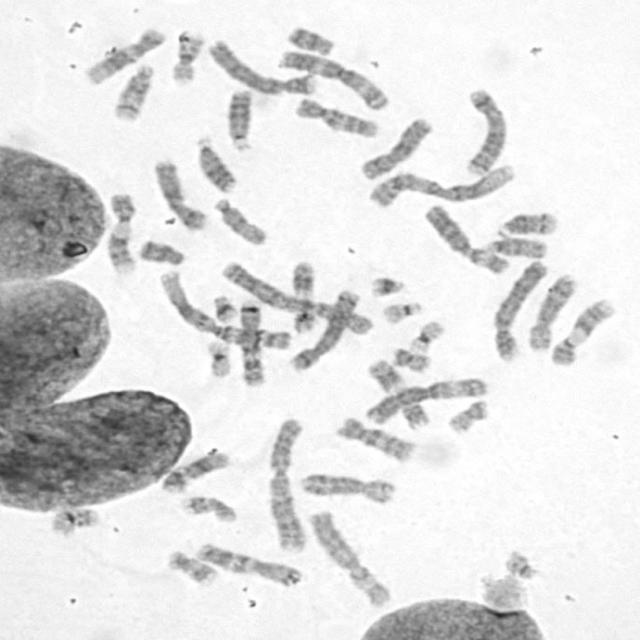A1: (153, 266, 296, 352), (364, 159, 520, 209)
A2: (215, 257, 377, 337), (262, 412, 309, 555)
A3: (274, 44, 392, 112), (361, 374, 489, 425)
B4: (204, 36, 320, 96), (488, 255, 550, 364)
B5: (286, 284, 362, 372), (460, 83, 511, 177)
C10: (334, 412, 419, 464), (290, 92, 382, 140)
C11: (362, 355, 430, 429), (288, 258, 318, 334)
C12: (80, 22, 168, 86), (156, 447, 231, 494)
C6: (302, 506, 396, 608), (420, 200, 512, 276)
C7: (191, 538, 304, 588), (233, 295, 268, 387)
C8: (523, 269, 580, 352), (296, 469, 397, 506)
C9: (547, 294, 619, 368), (103, 188, 139, 276)
D13: (192, 132, 239, 194), (223, 85, 256, 153)
D14: (109, 59, 157, 122), (494, 206, 561, 239)
D15: (209, 193, 270, 247), (482, 233, 549, 260)
E16: (166, 26, 206, 84), (45, 504, 102, 536)
E17: (162, 547, 220, 586), (177, 492, 239, 524)
E18: (283, 22, 337, 56), (134, 236, 188, 266)
F19: (404, 316, 447, 353), (201, 336, 235, 379)
F20: (444, 395, 492, 434), (388, 342, 432, 372)
G21: (365, 271, 407, 299), (209, 290, 241, 324)
G22: (500, 545, 541, 581), (377, 297, 425, 325)
X: (355, 113, 434, 182), (150, 156, 210, 231)
